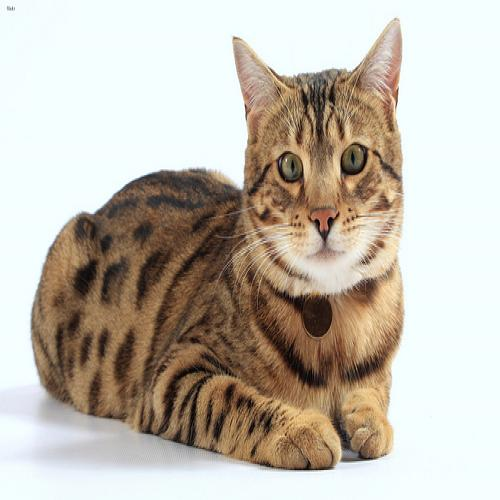bengal: (225, 13, 420, 295)
